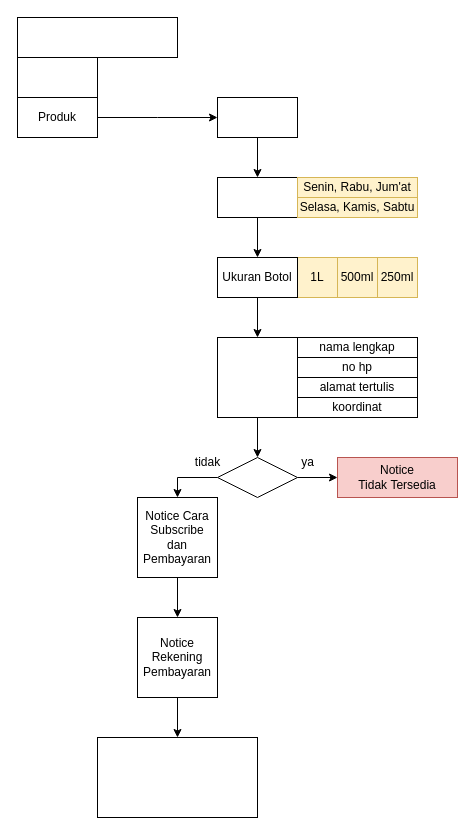
Image size: 475x835. Some labels were removed from this diagram. Each missing label, with the centre of its shape:
"About" goes at point 57,77.
"Form Upload & Notice Customer Service" goes at point 177,777.
"Isi Biodata" goes at point 257,377.
"kabup aten ?" goes at point 257,477.
"Landing Page" goes at point 97,37.
"Setup" goes at point 257,117.
"Skema Hari Antar" goes at point 257,197.
